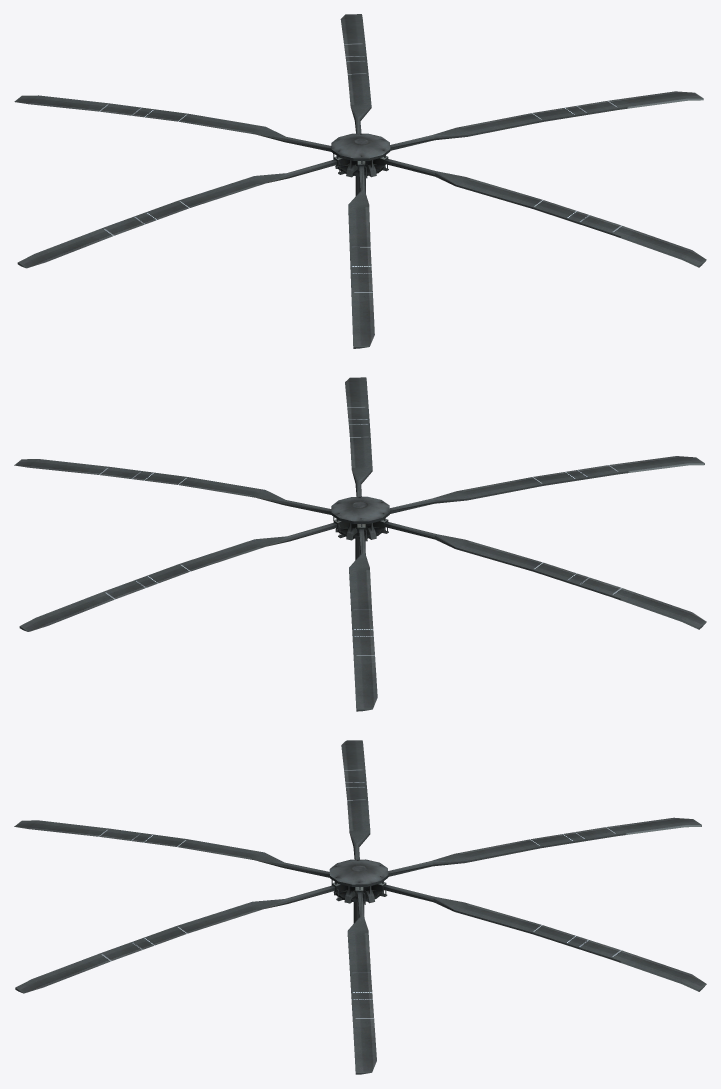
Rendered from Helicopter blade.obj.
3 renders of one model, top to bottom at view 1: azimuth 30°, elevation 25°; view 2: azimuth 150°, elevation 25°; view 3: azimuth 270°, elevation 25°, orthographic.
Parts seen in each view (by area): view 1: New_Game_Object.012; view 2: New_Game_Object.012; view 3: New_Game_Object.012.
Boxes of the visible parts, x1,y1,x2,y2 form: New_Game_Object.012: [14, 14, 706, 348]; New_Game_Object.012: [14, 377, 706, 711]; New_Game_Object.012: [14, 740, 706, 1074].
Size of the model in its own units: 7.88 by 0.6671 by 6.94.
